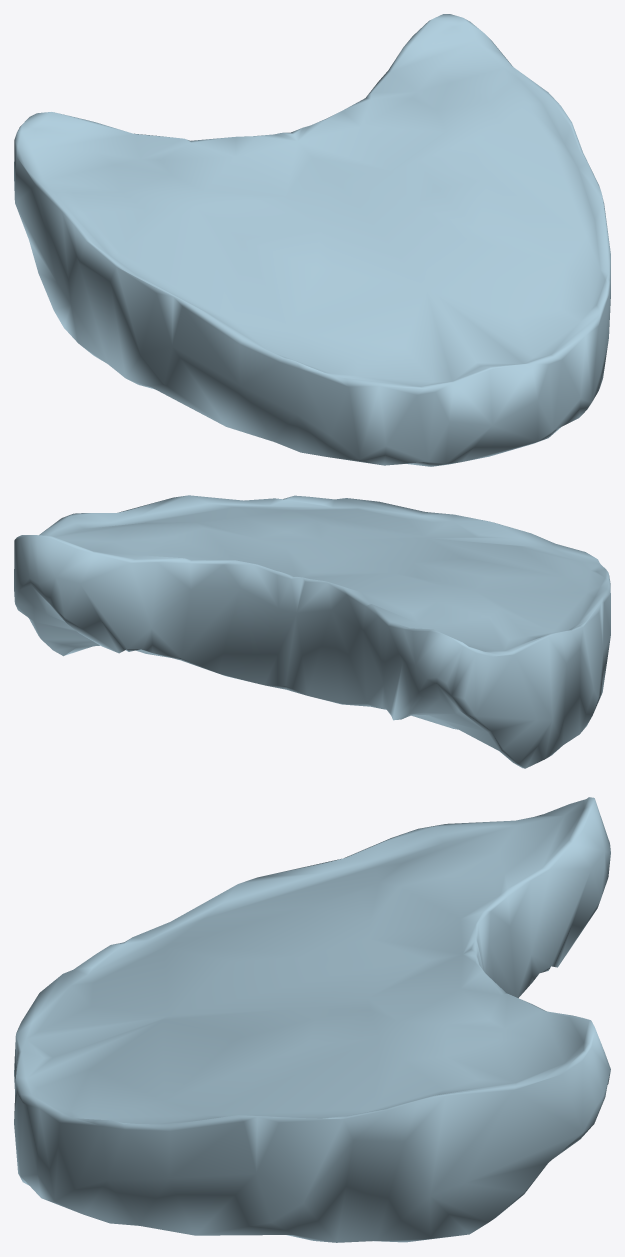
File: articulacoes-intervertebral-disc-t4-t5.glb
3 renders of one model, top to bottom at view 1: azimuth 30°, elevation 25°; view 2: azimuth 150°, elevation 25°; view 3: azimuth 270°, elevation 25°, orthographic. The views are drawn at different scales.
Parts seen in each view (by area): view 1: Intervertebral disc T4-T5; view 2: Intervertebral disc T4-T5; view 3: Intervertebral disc T4-T5.
Boxes of the visible parts, x1,y1,x2,y2 form: Intervertebral disc T4-T5: (14,14,610,466); Intervertebral disc T4-T5: (14,495,610,768); Intervertebral disc T4-T5: (14,797,610,1242).
Size of the model in its own units: 0.0321 by 0.0133 by 0.0297.
